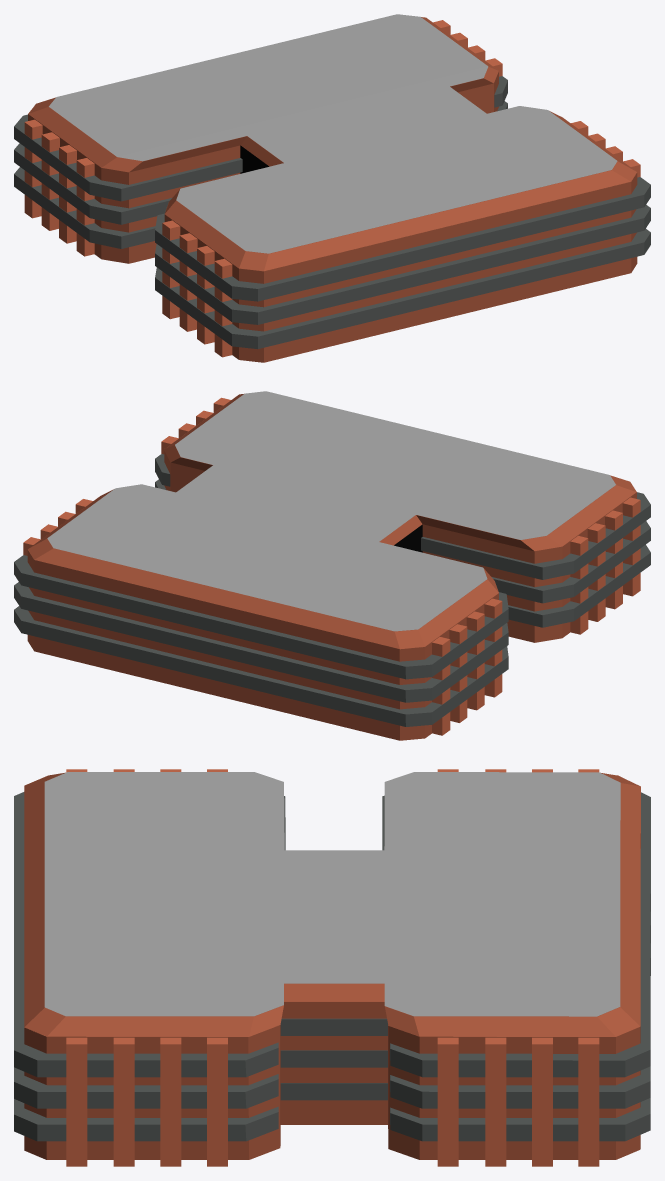
File: block_W.glb
3 renders of one model, top to bottom at view 1: azimuth 30°, elevation 25°; view 2: azimuth 150°, elevation 25°; view 3: azimuth 270°, elevation 25°, orthographic. The views are drawn at different scales.
Parts seen in each view (by area): view 1: Cube.012, Cube.018, Cube.011, Cube.001, Cube.002, Cube.004, Cube.007, Cube.003, Cube.006, Cube, Cube.009, Cube.010 (+2 smaller); view 2: Cube.012, Cube.018, Cube.011, Cube.001, Cube.002, Cube.004, Cube, Cube.010, Cube.007, Cube.003, Cube.005, Cube.009 (+2 smaller); view 3: Cube.012, Cube.018, Cube.011, Cube.001, Cube.004, Cube.002, Cube.014, Cube.015, Cube.016, Cube.017, Cube.019, Cube.021 (+2 smaller).
Part boxes in pixels (box(x1,y1,x2,y2)): Cube.012: box(49, 14, 617, 253); Cube.018: box(28, 58, 637, 362); Cube.011: box(28, 17, 636, 271); Cube.001: box(14, 76, 650, 301); Cube.002: box(14, 101, 650, 324); Cube.004: box(14, 167, 650, 349); Cube.007: box(76, 158, 94, 256); Cube.003: box(41, 132, 59, 230); Cube.006: box(214, 258, 232, 357); Cube: box(24, 119, 42, 218); Cube.009: box(179, 233, 197, 331); Cube.010: box(162, 220, 180, 319); Cube.012: box(47, 391, 615, 631); Cube.018: box(27, 393, 636, 740); Cube.011: box(28, 394, 636, 649); Cube.001: box(14, 454, 650, 679); Cube.002: box(14, 479, 650, 702); Cube.004: box(14, 544, 650, 726); Cube: box(432, 637, 450, 735); Cube.010: box(570, 535, 588, 634); Cube.007: box(484, 598, 502, 697); Cube.003: box(449, 624, 467, 722); Cube.005: box(466, 611, 484, 710); Cube.009: box(587, 523, 605, 621); Cube.012: box(44, 772, 620, 1016); Cube.018: box(24, 775, 640, 1159); Cube.011: box(24, 772, 640, 1036); Cube.001: box(14, 792, 650, 1077); Cube.004: box(14, 943, 650, 1141); Cube.002: box(14, 912, 650, 1108); Cube.014: box(160, 1037, 181, 1166); Cube.015: box(113, 1037, 134, 1166); Cube.016: box(437, 1037, 458, 1166); Cube.017: box(66, 1037, 87, 1166); Cube.019: box(485, 1037, 506, 1166); Cube.021: box(578, 1037, 599, 1166).
Size of the model in its own units: 1.07 by 0.2456 by 1.05.
